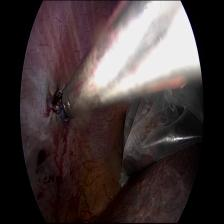Bipolar: (50, 81, 76, 126)
Specimen Bag: (116, 85, 202, 195)
